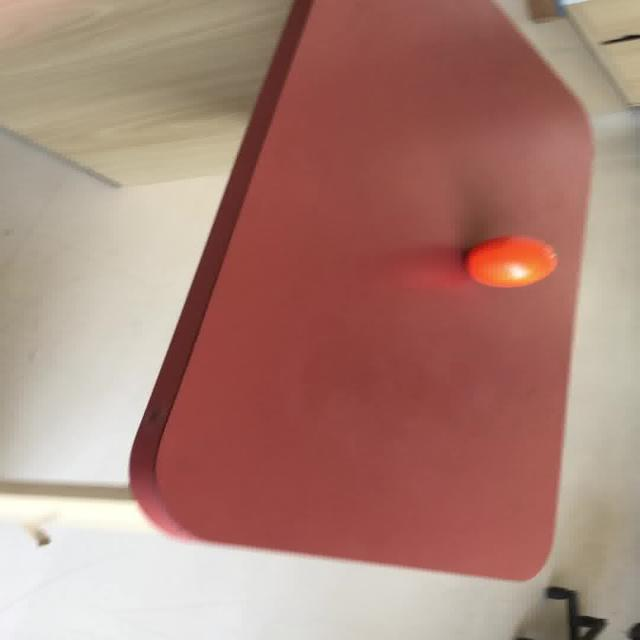orange: (126, 0, 597, 581), (465, 235, 558, 288)
